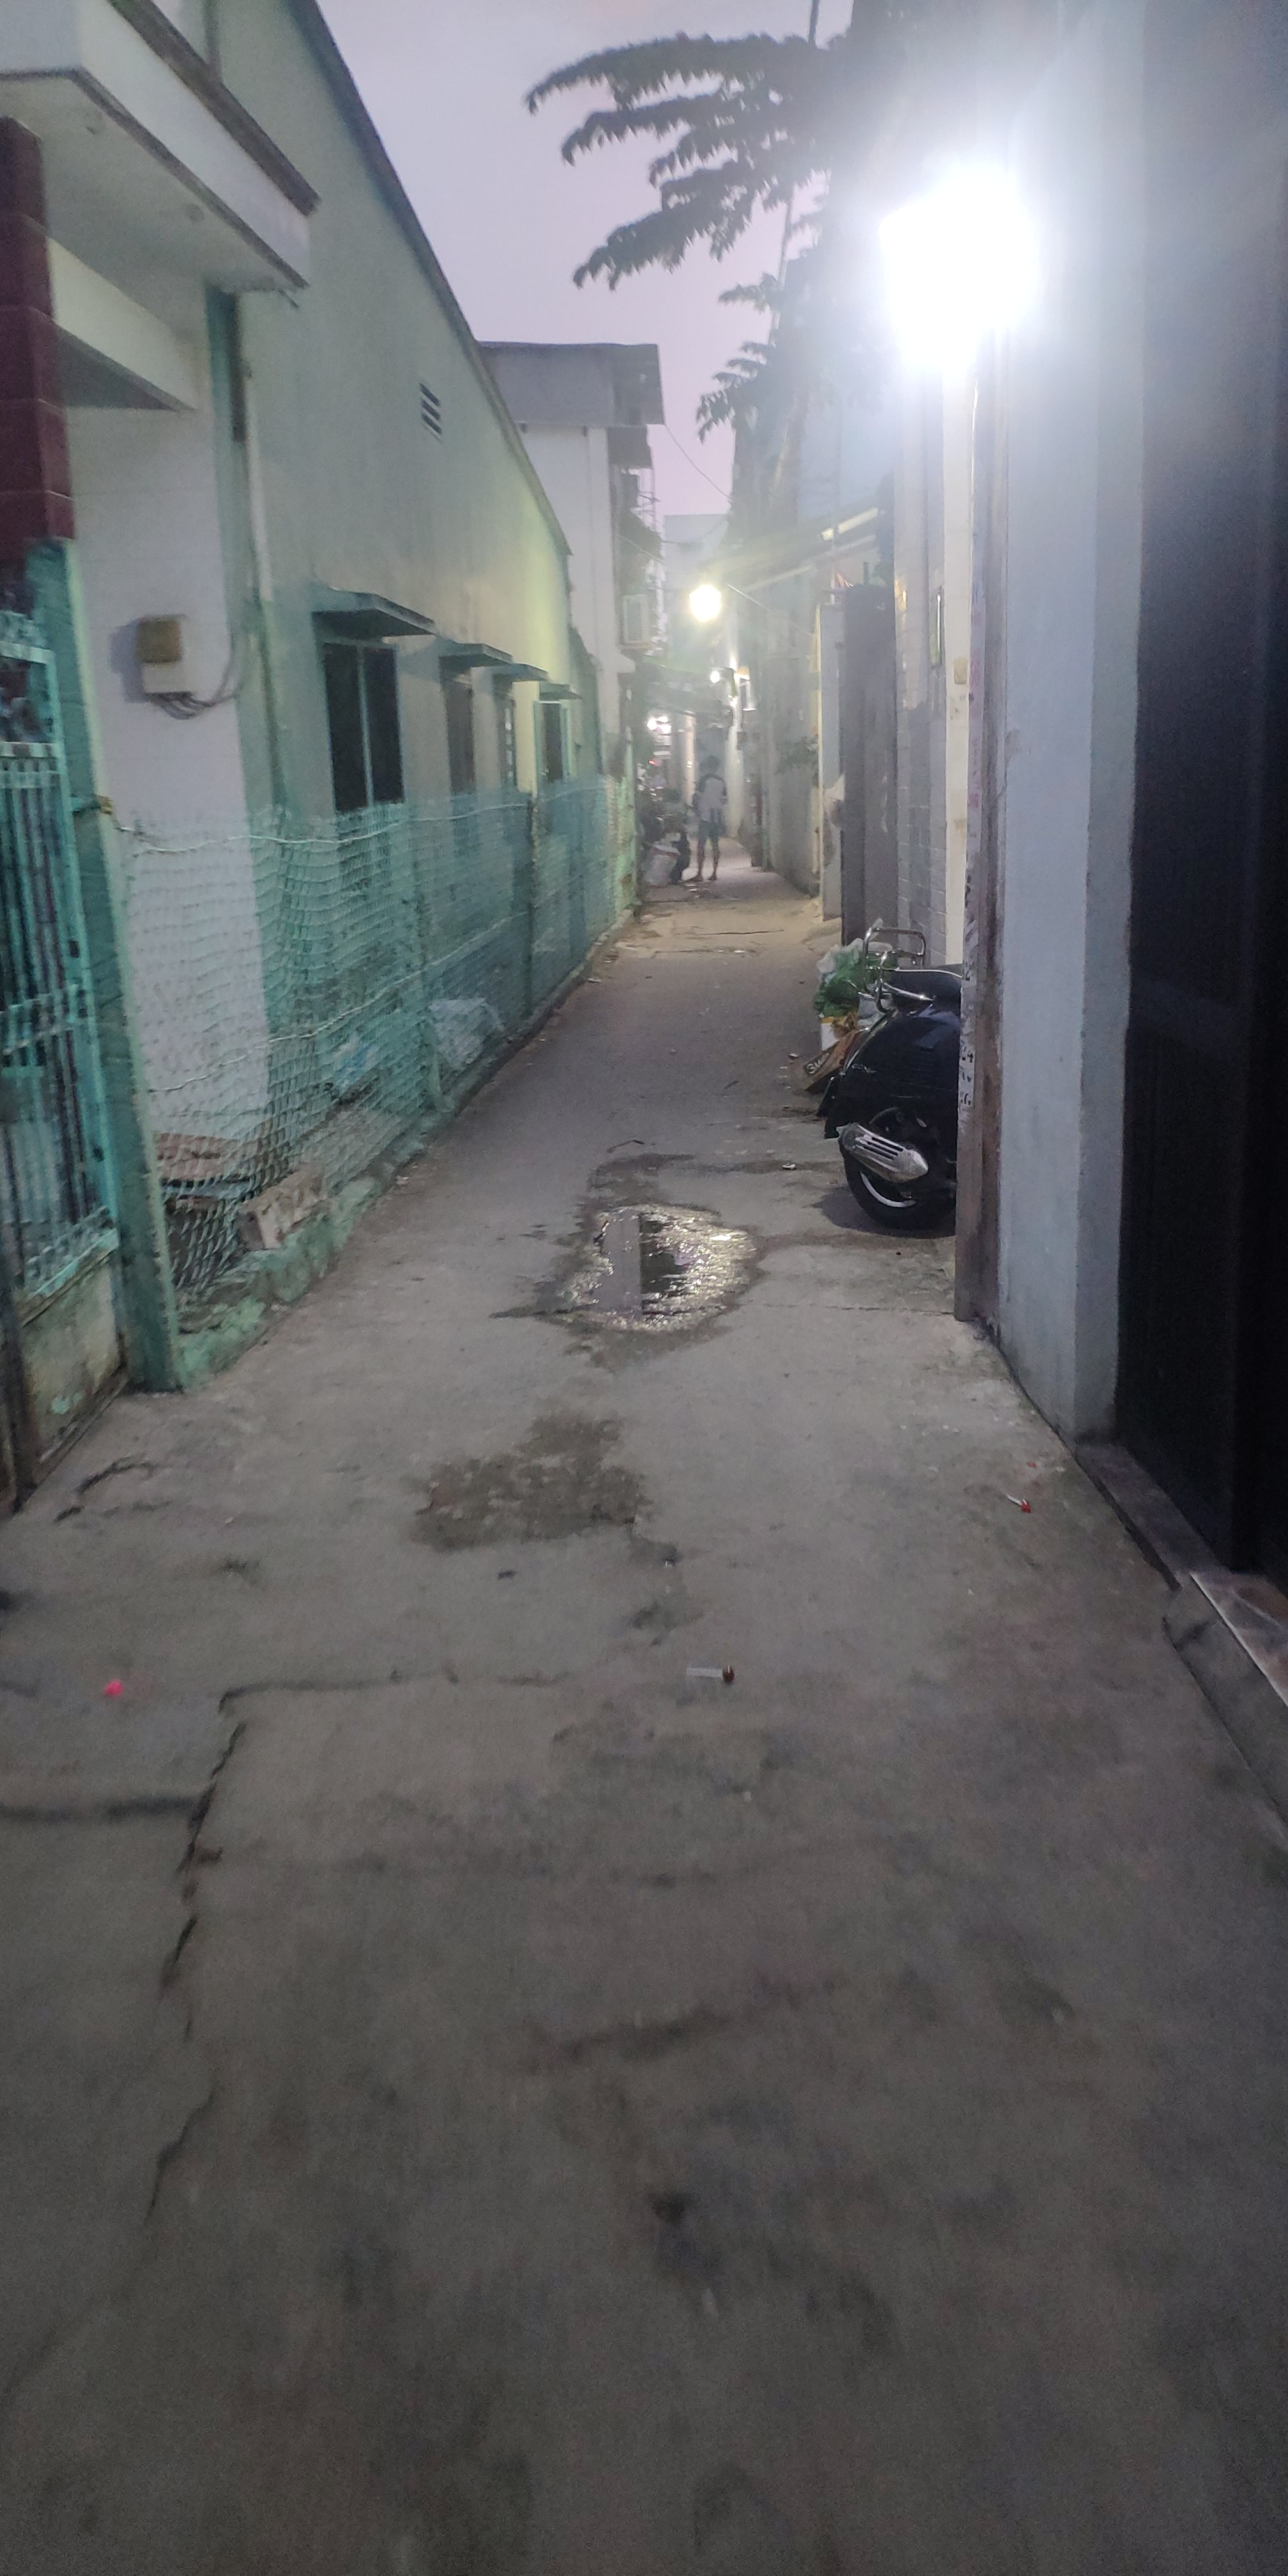hole: (544, 1196, 744, 1334), (49, 1449, 181, 1536), (210, 1546, 276, 1595)
